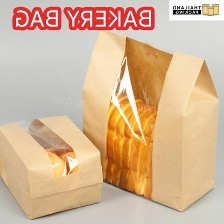snack: (75, 22, 224, 217), (0, 109, 107, 224)
